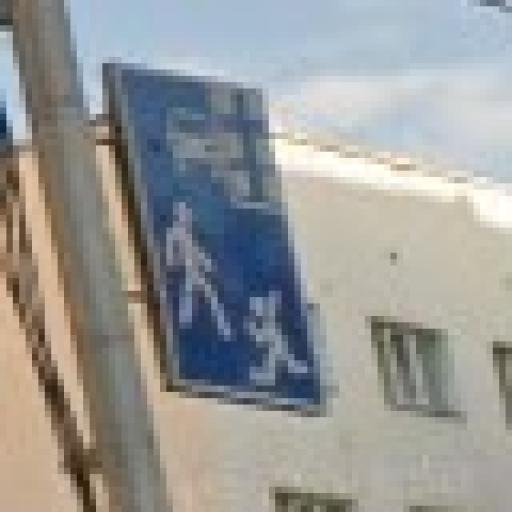traffic_sign: (110, 64, 327, 418)
